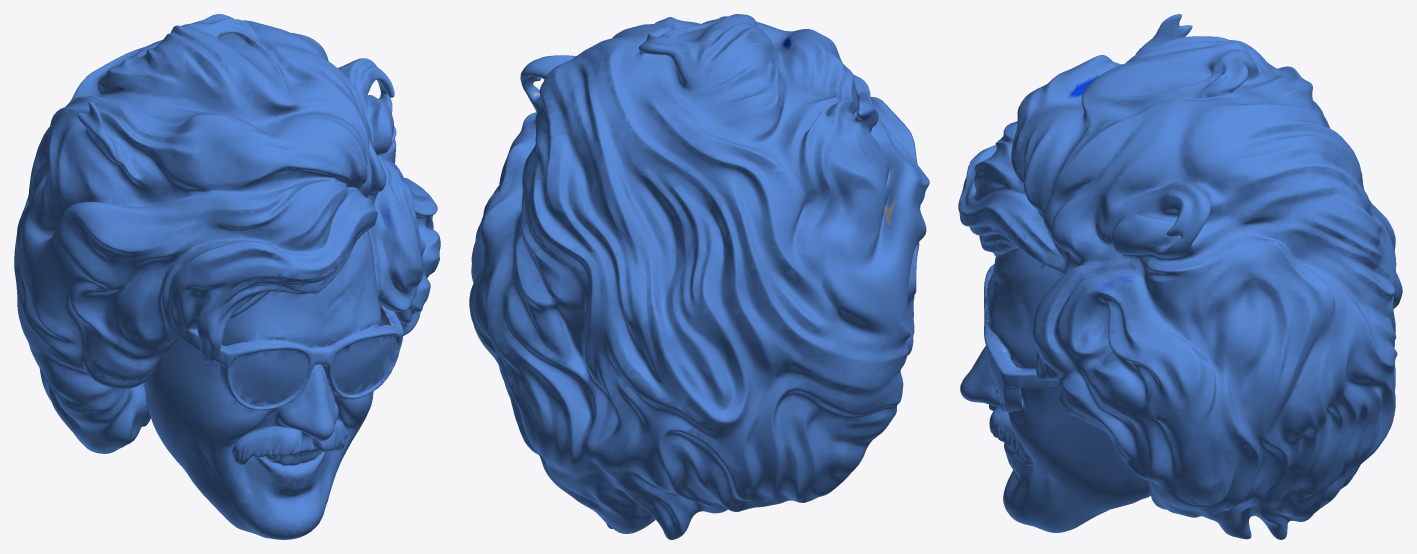
Rendered from Beto_test.glb.
3 renders of one model, left to right at view 1: azimuth 30°, elevation 25°; view 2: azimuth 150°, elevation 25°; view 3: azimuth 270°, elevation 25°, orthographic. The views are drawn at different scales.
Bounding box in the file's own units: 1.51 × 1.68 × 1.42.
